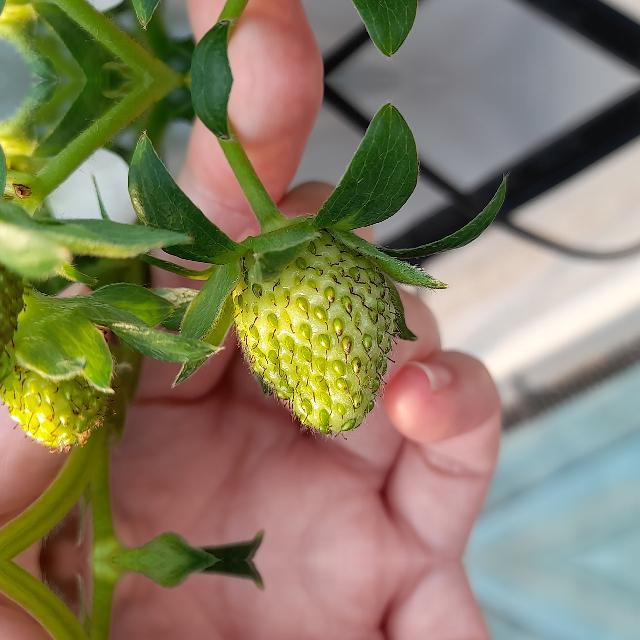Health_25: (232, 229, 402, 441), (0, 300, 112, 452)
